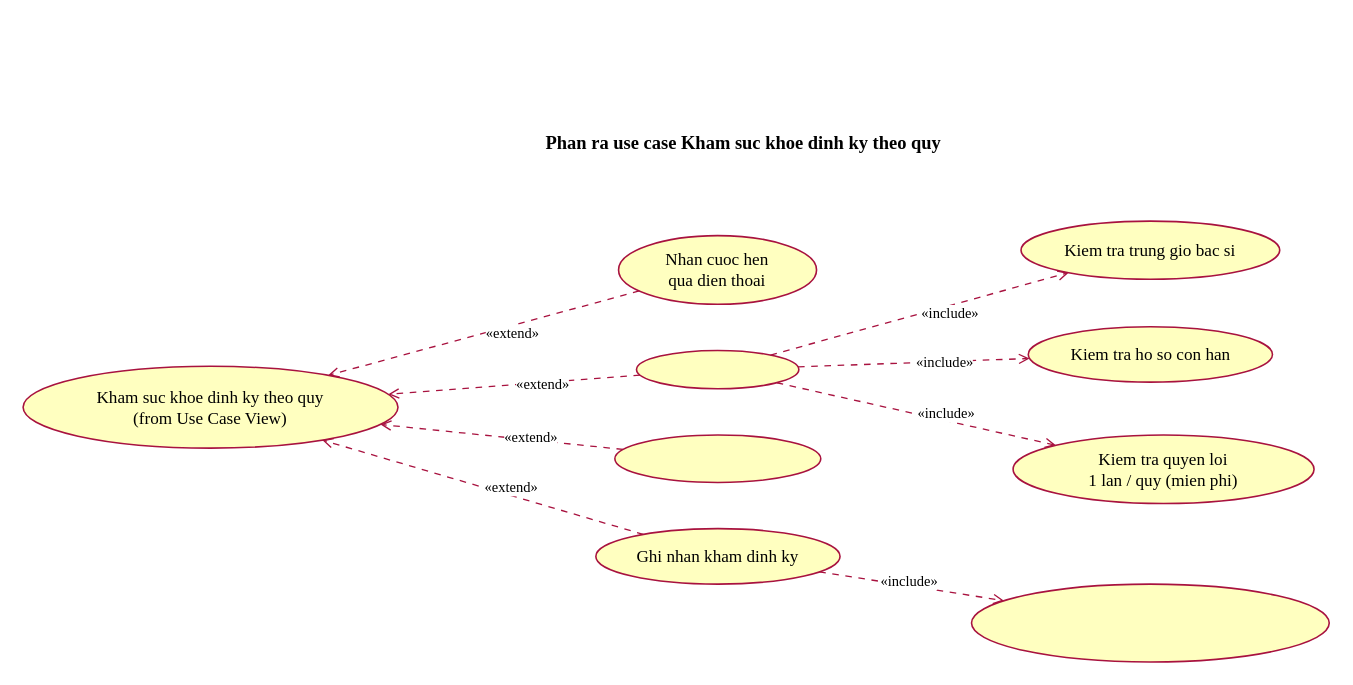
The diagram is 1353 pixels wide and 685 high, and some of its shapes have lost their labels. Here are the shapes that lost their labels. From the top down, the centre of each, then its label:
point (717, 369): Dat lich hen
point (717, 458): Huy / doi lich hen
point (1149, 622): Ghi nhu mot lan dieu tri (khong benh / phat hien som)
